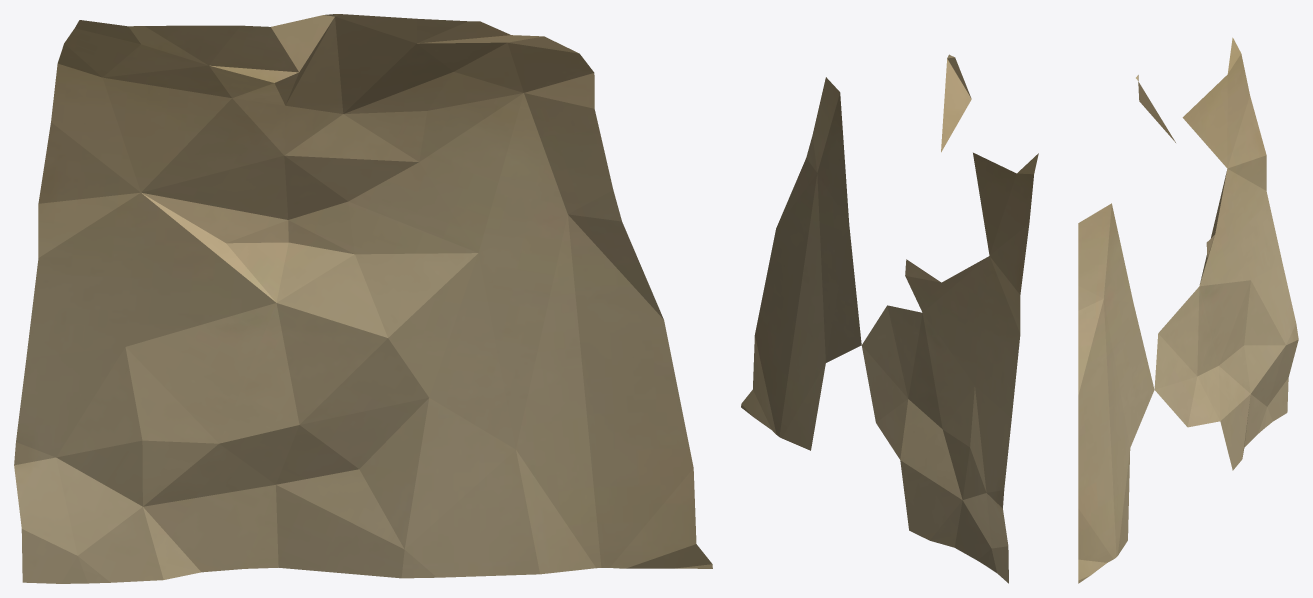
3 renders of one model, left to right at view 1: azimuth 30°, elevation 25°; view 2: azimuth 150°, elevation 25°; view 3: azimuth 270°, elevation 25°, orthographic. The views are drawn at different scales.
Bounding box in the file's own units: 0.7708 × 0.8374 × 0.4196.
Materials: 2 (2 with a texture image).
